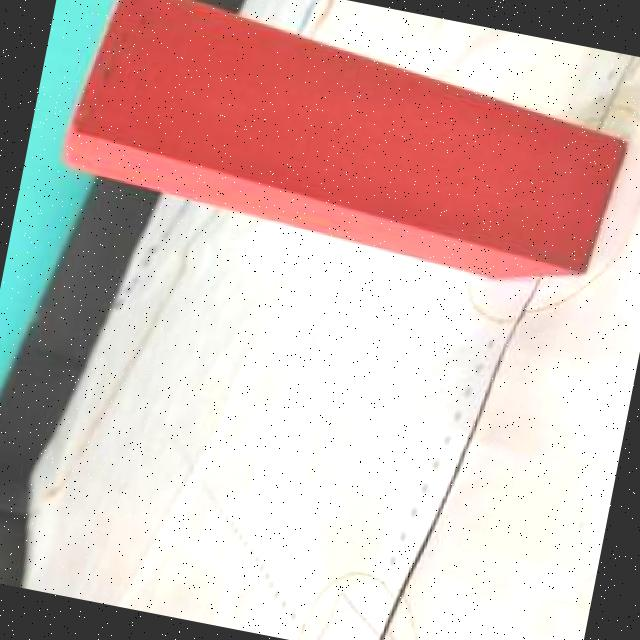redbox: (68, 26, 626, 270)
